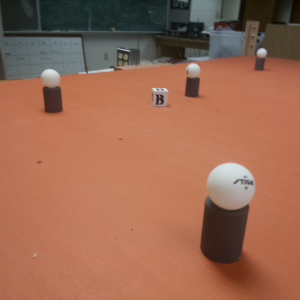blockB: (151, 87, 170, 108)
corner: (243, 17, 262, 46)
obstacle: (199, 160, 260, 268), (39, 67, 67, 115), (182, 62, 203, 99), (254, 48, 269, 71)
